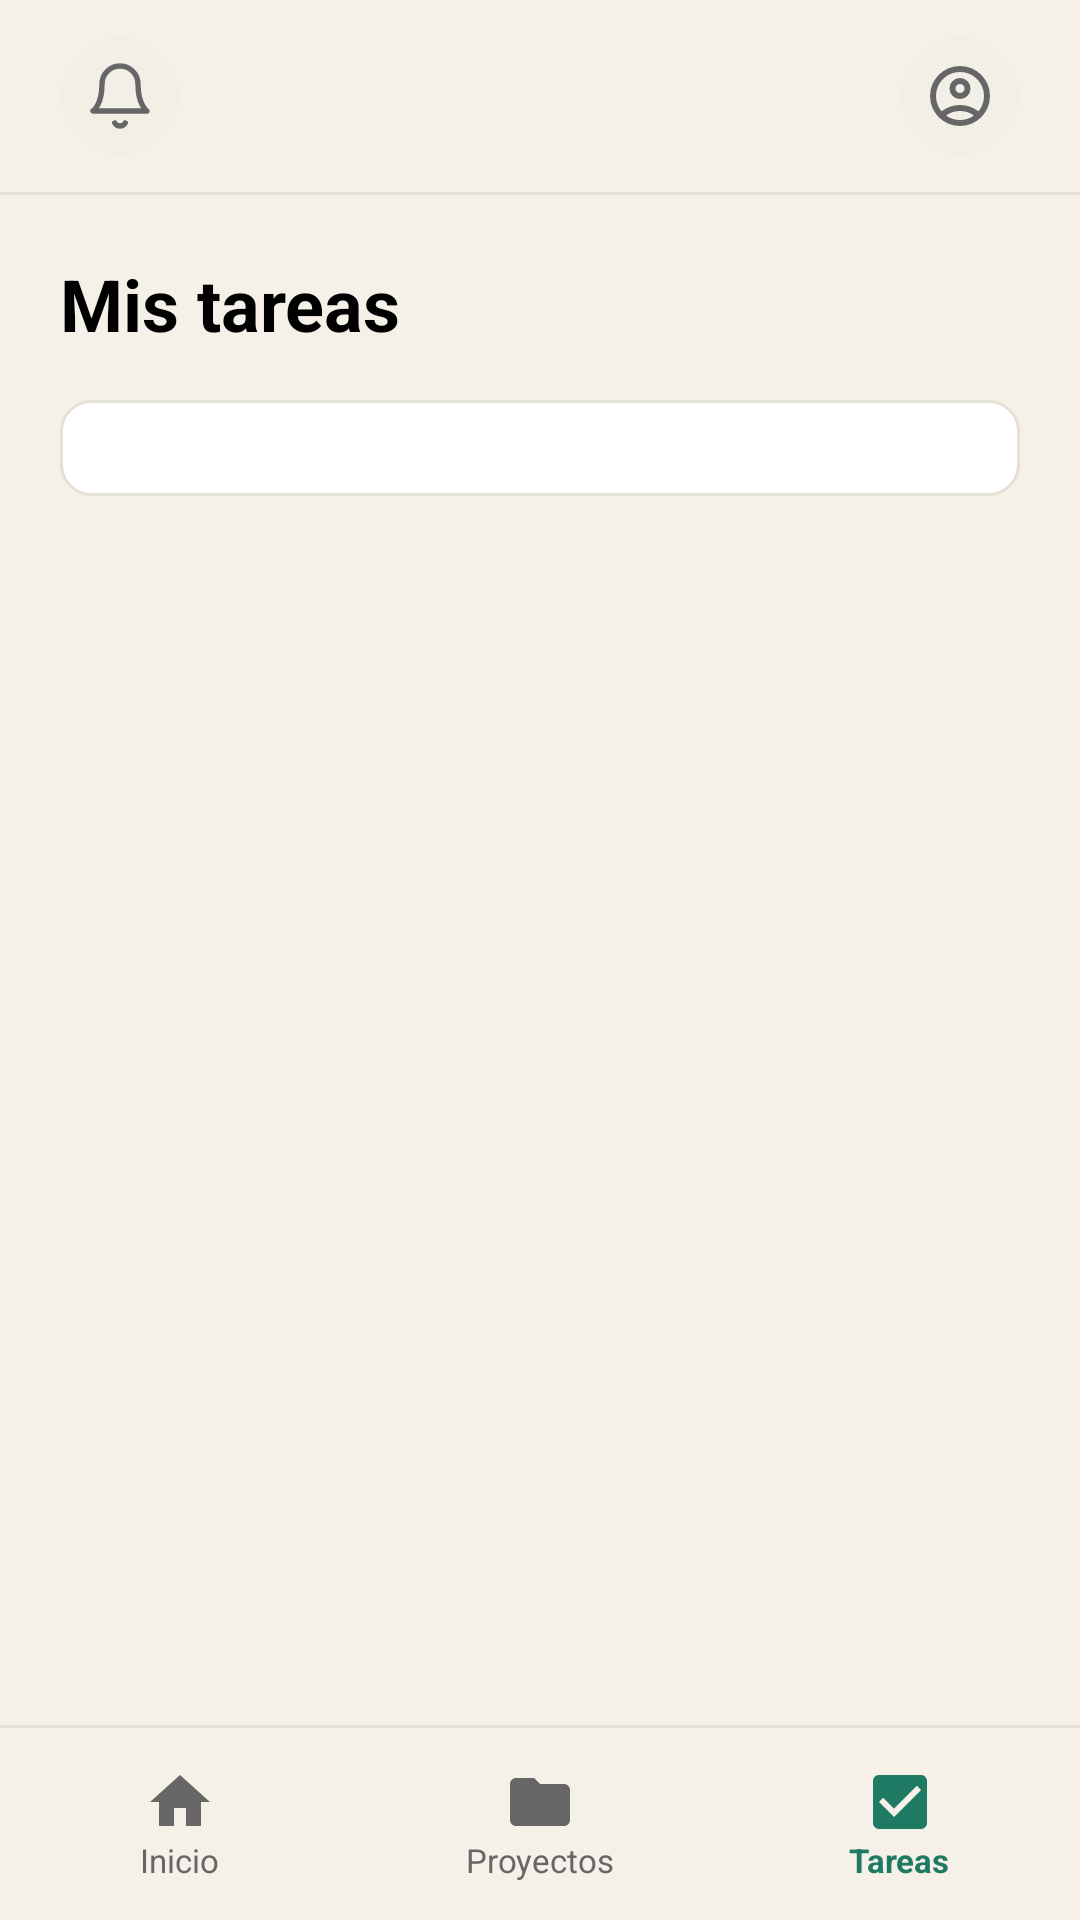

Locate icon controls on the screen. Image size 1080px x 1920px, boxes as box(x1, y1, x2, y2).
Notificaciones: box(90, 63, 150, 129)
Perfil: box(930, 66, 990, 126)
